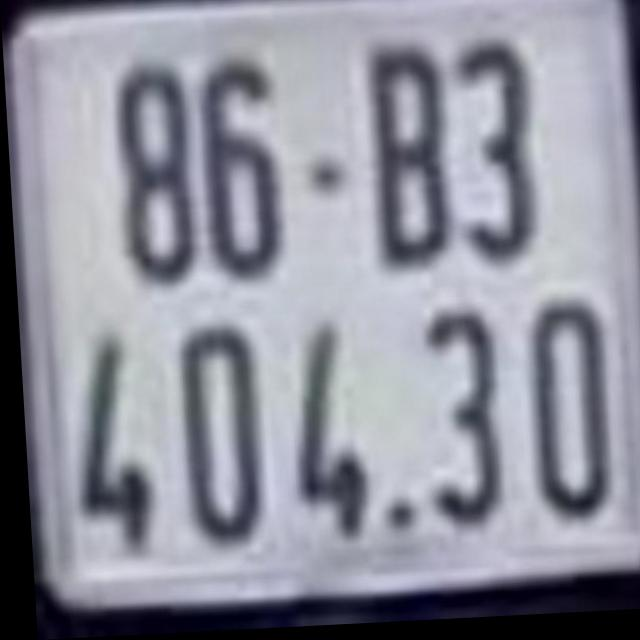0: (171, 322, 258, 545), (529, 303, 606, 526)
3: (416, 308, 501, 531), (456, 41, 536, 272)
4: (65, 339, 152, 551), (290, 328, 362, 533)
6: (200, 54, 283, 282)
8: (111, 55, 194, 279)
B: (368, 51, 452, 268)
